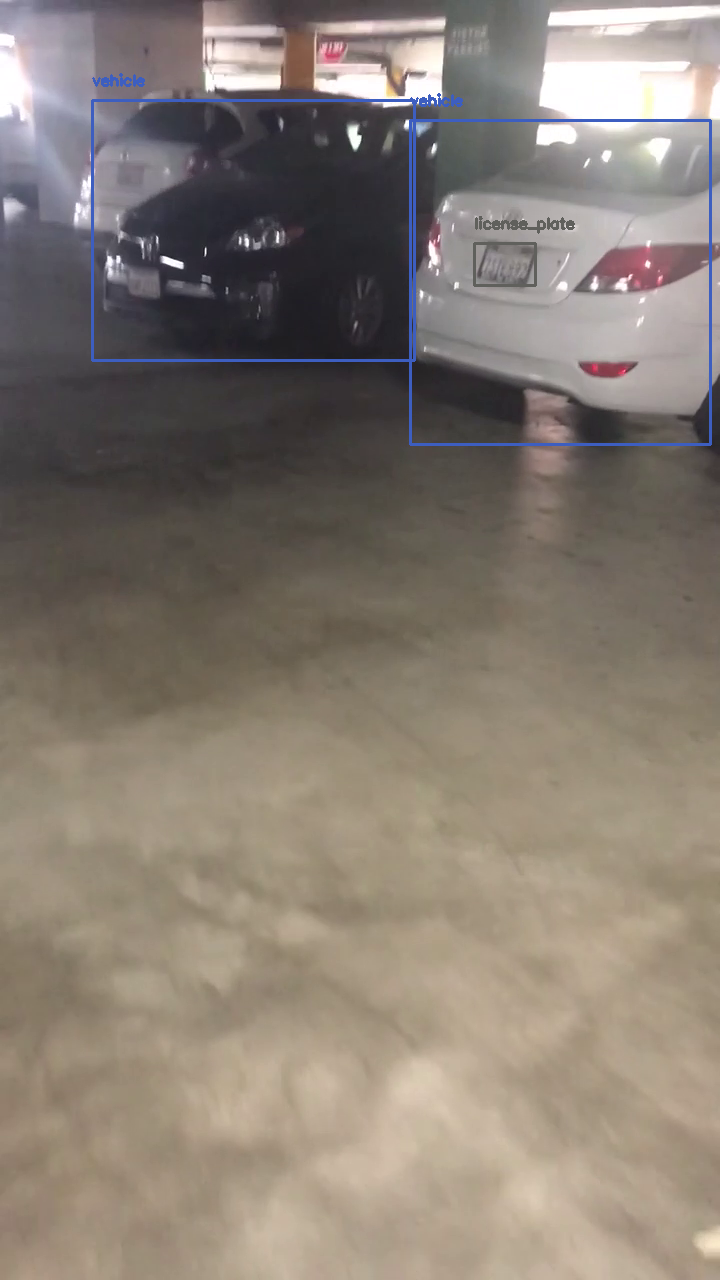license_plate: (474, 243, 535, 285)
vehicle: (410, 120, 710, 444), (92, 100, 414, 360)
